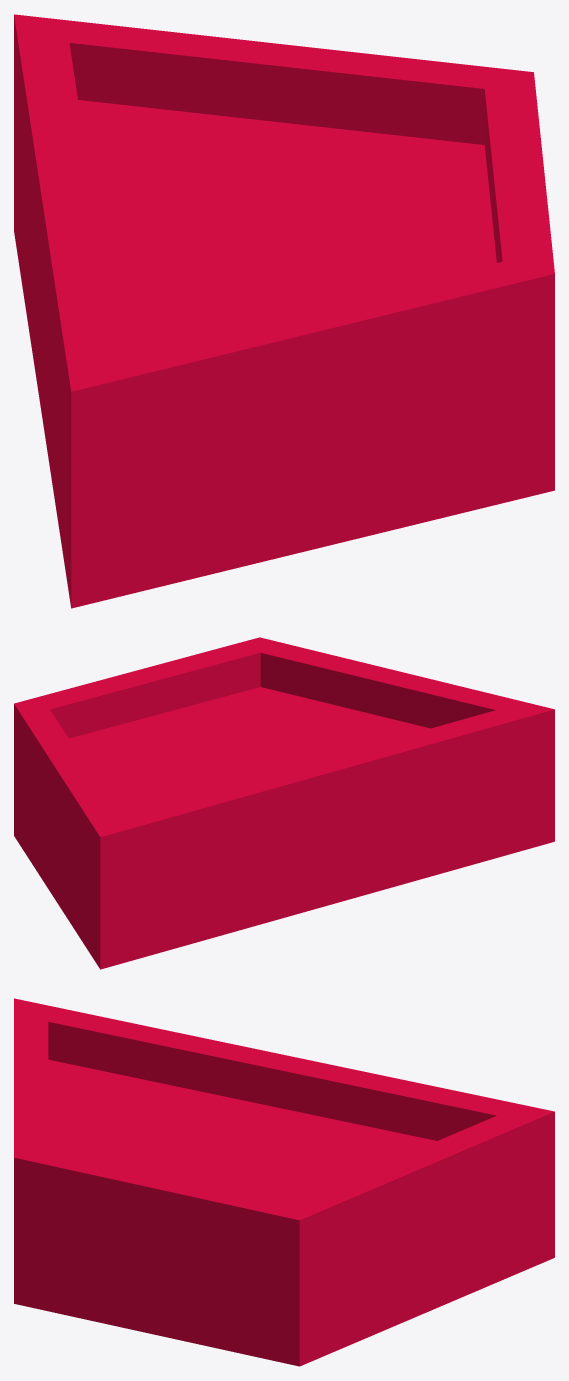
3 renders of one model, top to bottom at view 1: azimuth 30°, elevation 25°; view 2: azimuth 150°, elevation 25°; view 3: azimuth 270°, elevation 25°, orthographic. The views are drawn at different scales.
Visible parts, largest first — view 1: Cube; view 2: Cube; view 3: Cube.
Boxes of the visible parts, left/top/right/bottom form: Cube: left=14, top=14, right=554, bottom=608; Cube: left=14, top=637, right=554, bottom=969; Cube: left=14, top=998, right=554, bottom=1366.
Size of the model in its own units: 2.79 by 0.8563 by 2.87.
